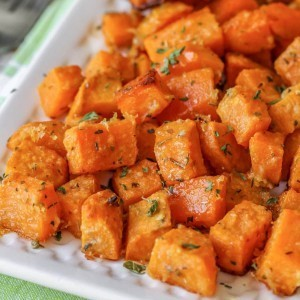sweet potato_brain food: (42, 60, 280, 232)
